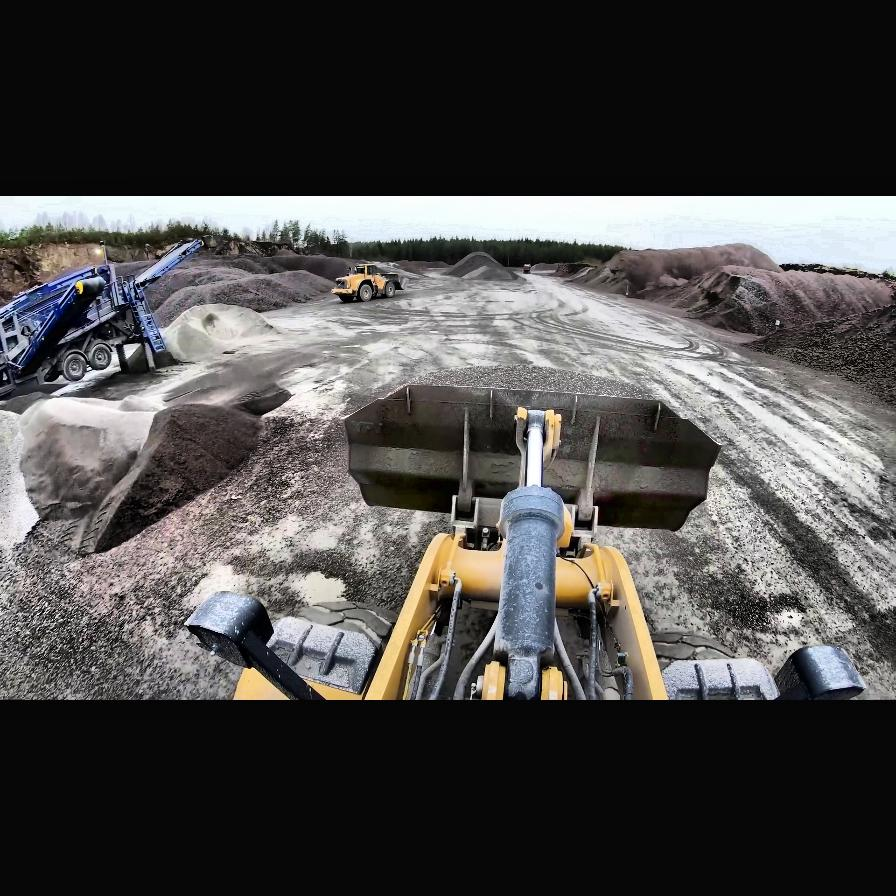anchor: (515, 407, 563, 473)
pile of gravel: (1, 384, 290, 558), (578, 242, 896, 350), (603, 243, 783, 299), (156, 266, 336, 322), (160, 303, 284, 365), (0, 240, 110, 298), (441, 251, 517, 278), (563, 264, 615, 288)
